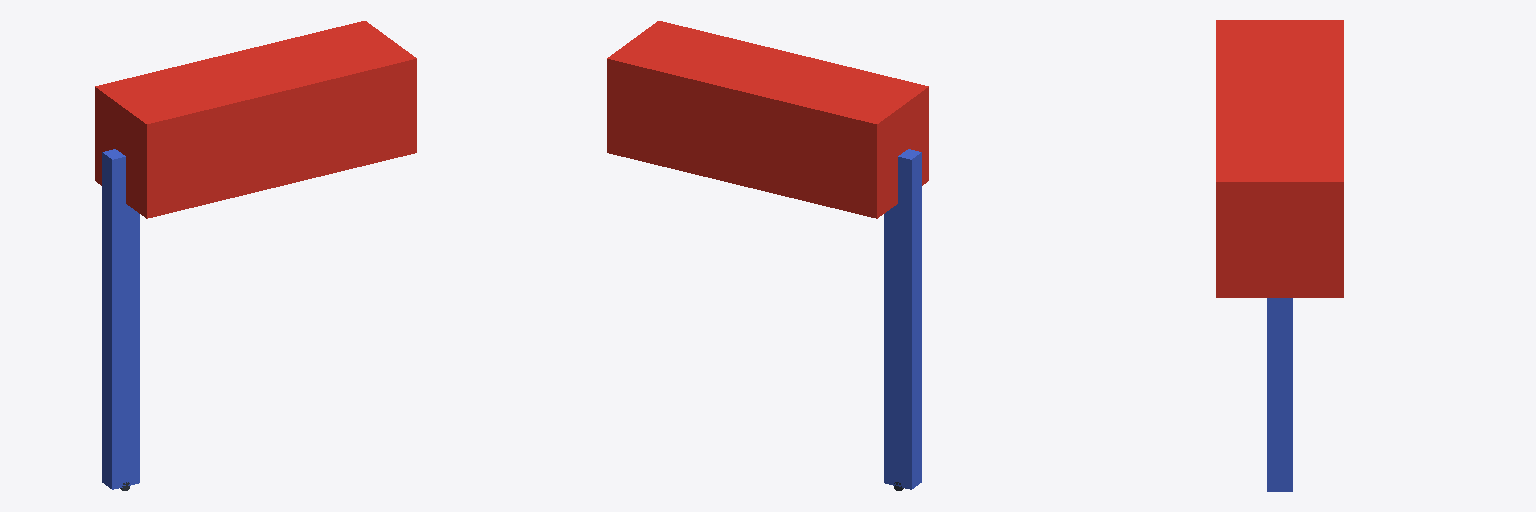
The robot description file, URDF, robot "camel_hard_IceCream":
<?xml version="1.0" ?>
<robot name = "camel_hard_IceCream">

  <material name="red">
    <color rgba="0.914 0.263 0.212 0.7"/>
  </material>

  <material name="stylish">
    <color rgba="0.243 0.271 0.318 0.9"/>
  </material>

  <material name="lime">
    <color rgba="0.804 0.863 0.223 0.9"/>
  </material>

  <material name="blue">
    <color rgba="0.329 0.463 0.890 0.7 "/>
  </material>

  <link name="world"/>
  <joint name="fixed_world" type="fixed">
    <parent link="world"/>
    <child link="base"/>
  </joint>

  <link name="base">
    <visual>
      <origin rpy="1.570796 0 0 " xyz="0 0 0.01275"/>
      <geometry>
        <cylinder length="0.02" radius="0.005"/>
      </geometry>
      <material name="stylish"/>
    </visual>
    <inertial>
      <origin rpy="1.570796 0 0 " xyz="0 0 0.01275"/>
      <mass value="0.01"/>
      <inertia ixx="0.001229" ixy="0.0" ixz="0.0" iyy="0.001234" iyz="0.0" izz="0.000013"/>
    </inertial>
  </link>

  <joint name="base-pitch" type="revolute">
    <origin rpy="0 0 0" xyz="0 0 0.01275"/>
    <parent link="base"/>
    <child link="rod"/>
    <axis xyz="0 1 0"/>
  </joint>

  <link name="rod">
    <visual>
      <origin rpy="0.0 0.0 0.0" xyz="0.0 0.0 0.175"/>
      <geometry>
        <box size="0.03 0.02 0.35"/>
      </geometry>
      <material name="blue"/>
    </visual>

    <inertial>
      <origin rpy="0.0 0.0 0.0" xyz="0.0 0.0 0.175"/>
      <mass value="1.2"/>
      <inertia ixx="0.01229" ixy="0.0" ixz="0.0" iyy="0.01234" iyz="0.0" izz="0.00013"/>
    </inertial>

    <collision>
      <origin rpy="0.0 0.0 0.0" xyz="0.0 0.0 0.175"/>
      <geometry>
        <box size="0.003 0.002 0.35"/>
      </geometry>
    </collision>
  </link>

  <joint name="hip-pitch" type="revolute">
    <origin rpy="0.0 0.0 0.0" xyz="0.0 0.0 0.35"/>
    <parent link="rod"/>
    <child link="body"/>
    <axis xyz = "0 1 0"/>
    <limit velocity= "17"/>
<!--    <dynamics friction = "1.0"/>-->
  </joint>

  <link name="body">
    <visual>
      <origin rpy="0.0 0.0 0.0" xyz="0.15 0.0 0.0"/>
      <geometry>
        <box size="0.3 0.1 0.1"/>
      </geometry>
      <material name="red"/>
    </visual>

    <inertial>
      <origin rpy="0.0 0.0 0.0" xyz="0.15 0.0 0.0"/>
      <mass value="2.5"/>
      <inertia ixx="0.00416667" ixy="0.0" ixz="0.0" iyy="0.0208333" iyz="0.0" izz="0.0208333"/>
    </inertial>
  </link>

</robot>

--- Facts derived from the render (not from the file) ---
Views: 3 orthographic renders of the robot side by side, from view 1: azimuth 30°, elevation 25°; view 2: azimuth 150°, elevation 25°; view 3: azimuth 270°, elevation 25°.
Model camel_hard_IceCream with 4 links and 3 joints (2 revolute, 1 fixed), rooted at world, posed every joint at zero.
Visible links, largest first — view 1: body, rod; view 2: body, rod; view 3: body, rod.
Link boxes in pixels (x1,y1,x2,y2): body: [95, 21, 416, 218]; rod: [102, 149, 139, 489]; body: [607, 21, 928, 218]; rod: [884, 149, 921, 489]; body: [1216, 20, 1343, 297]; rod: [1267, 298, 1292, 491].
Bounding box of the posed robot: 0.315 × 0.1 × 0.405 m (x, y, z).
Geometry: primitives only (box / cylinder / sphere), no mesh files.